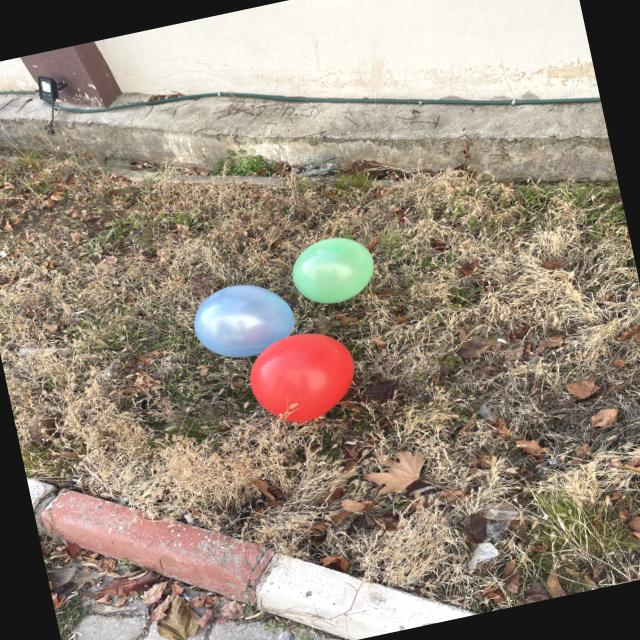balloon: (250, 333, 354, 422), (194, 284, 294, 357), (293, 237, 373, 303)
